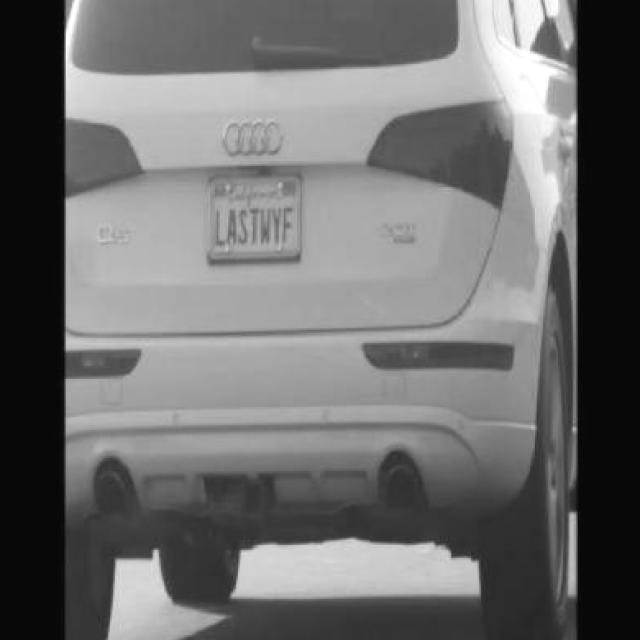licenseplate: (207, 169, 300, 269)
